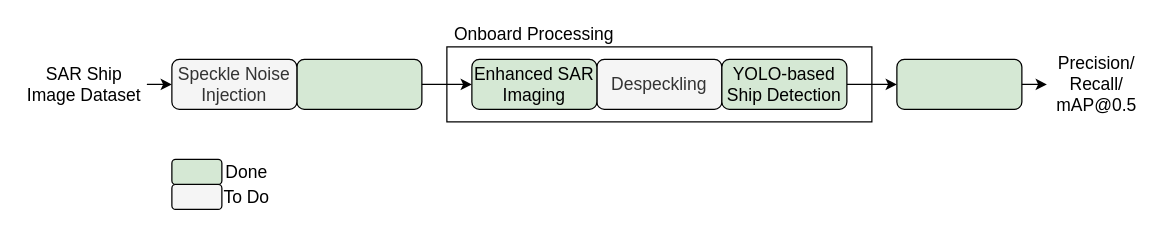
Some shapes in this 1168 by 231 pixel diagram are drawn without their labels. Here are the shapes that lost their labels. From the top down, the centre of each, then its label:
point (359, 83): Point-Scatterer Echo Model
point (959, 83): Performance Evaluation
